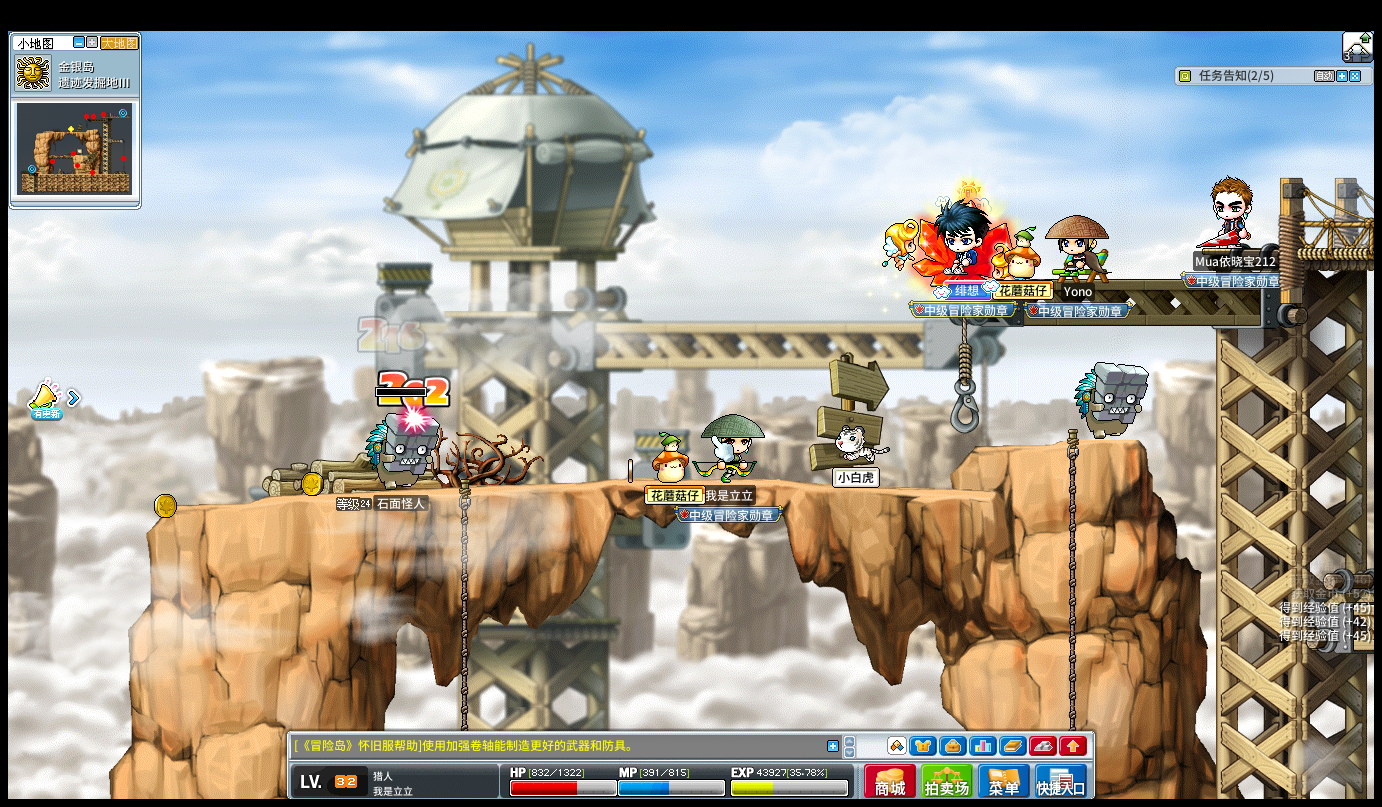floor: (166, 475, 1025, 499), (978, 433, 1146, 449), (979, 438, 1145, 453)
monster: (1073, 361, 1149, 440), (364, 412, 439, 491)
rope: (1064, 425, 1079, 726), (457, 474, 470, 677)
